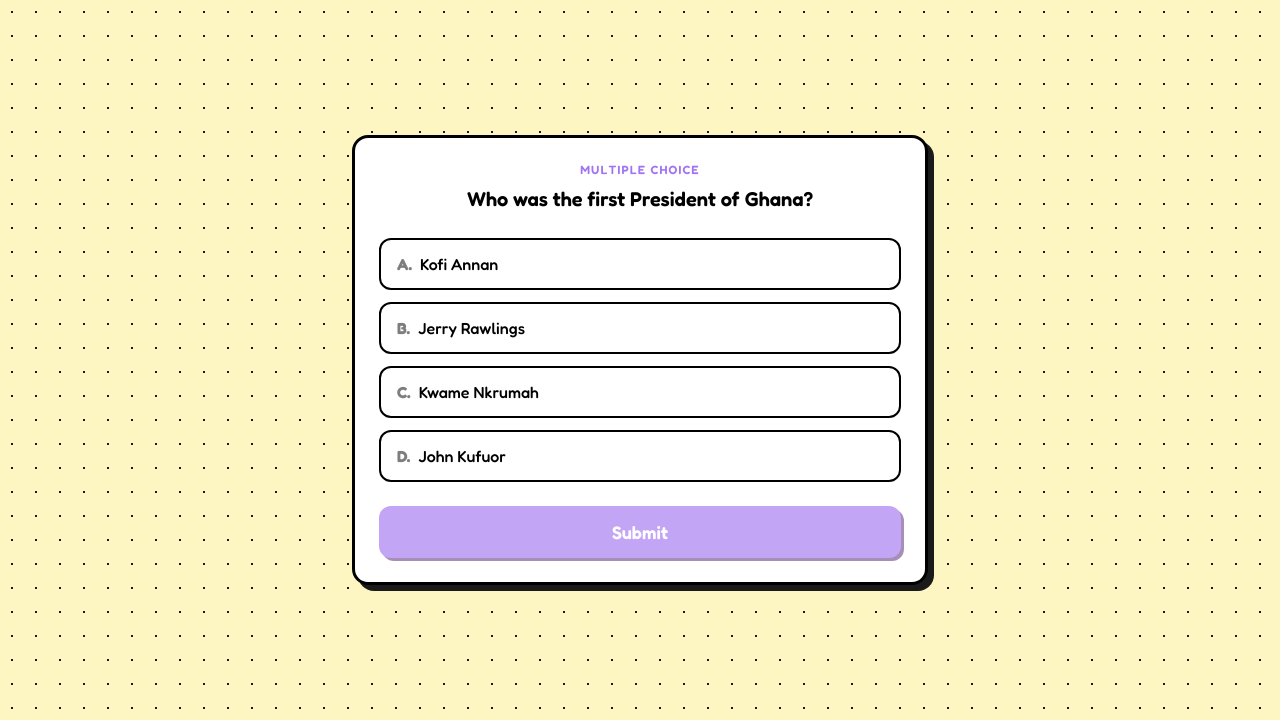
Test case: QuestionCard — multiple choice › submit button enables after selecting an option
This screenshot has width=1280, height=720.
Click the button "C.Kwame Nkrumah" at (479, 392), box [379,366,901,418]
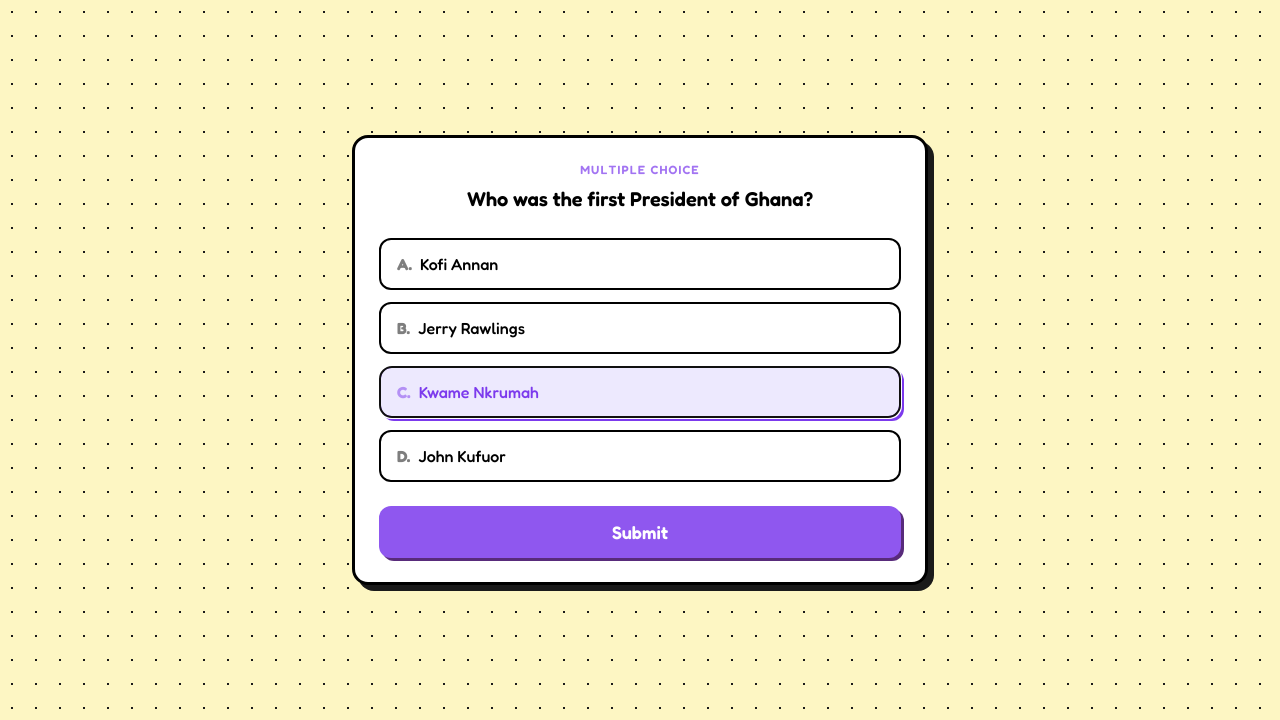
Expected: the button "Submit" is enabled, [379,506,901,558]
